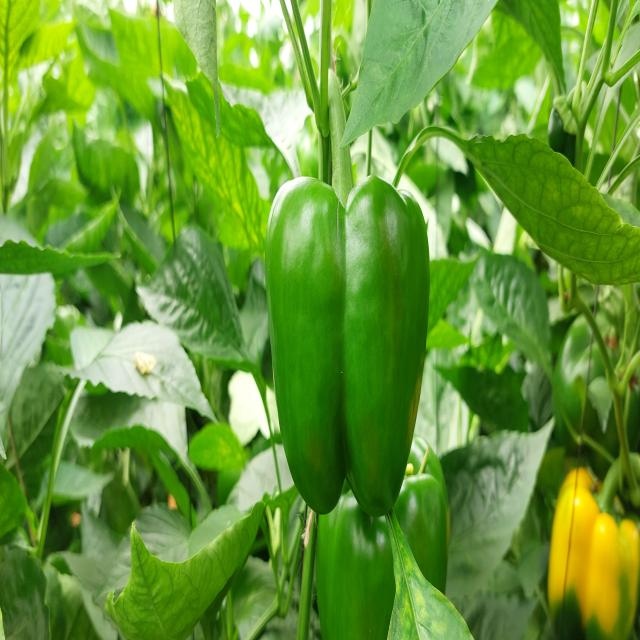Green--Not-ready-to-harvest: (263, 177, 428, 516), (550, 459, 640, 640)
